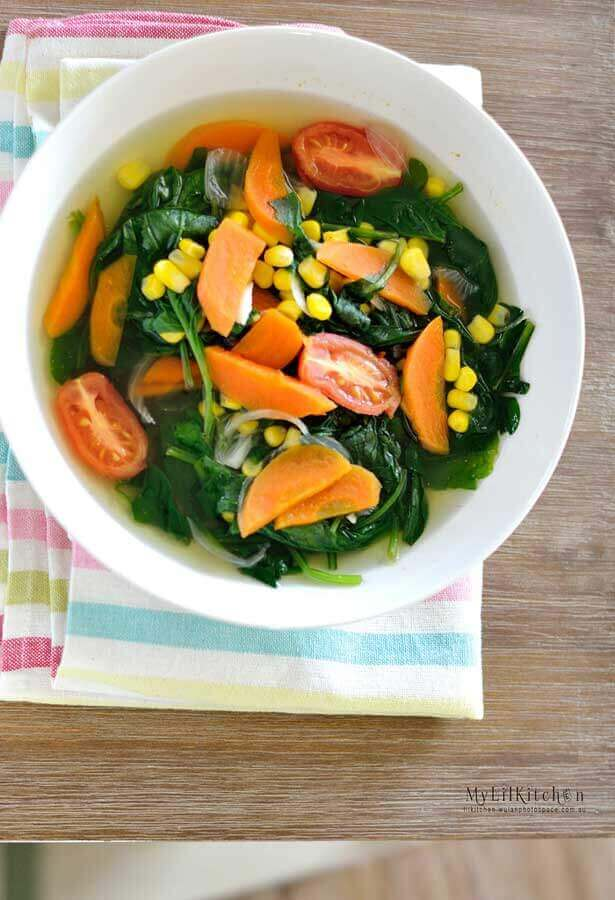Sayur Bayam: (17, 110, 530, 556)
